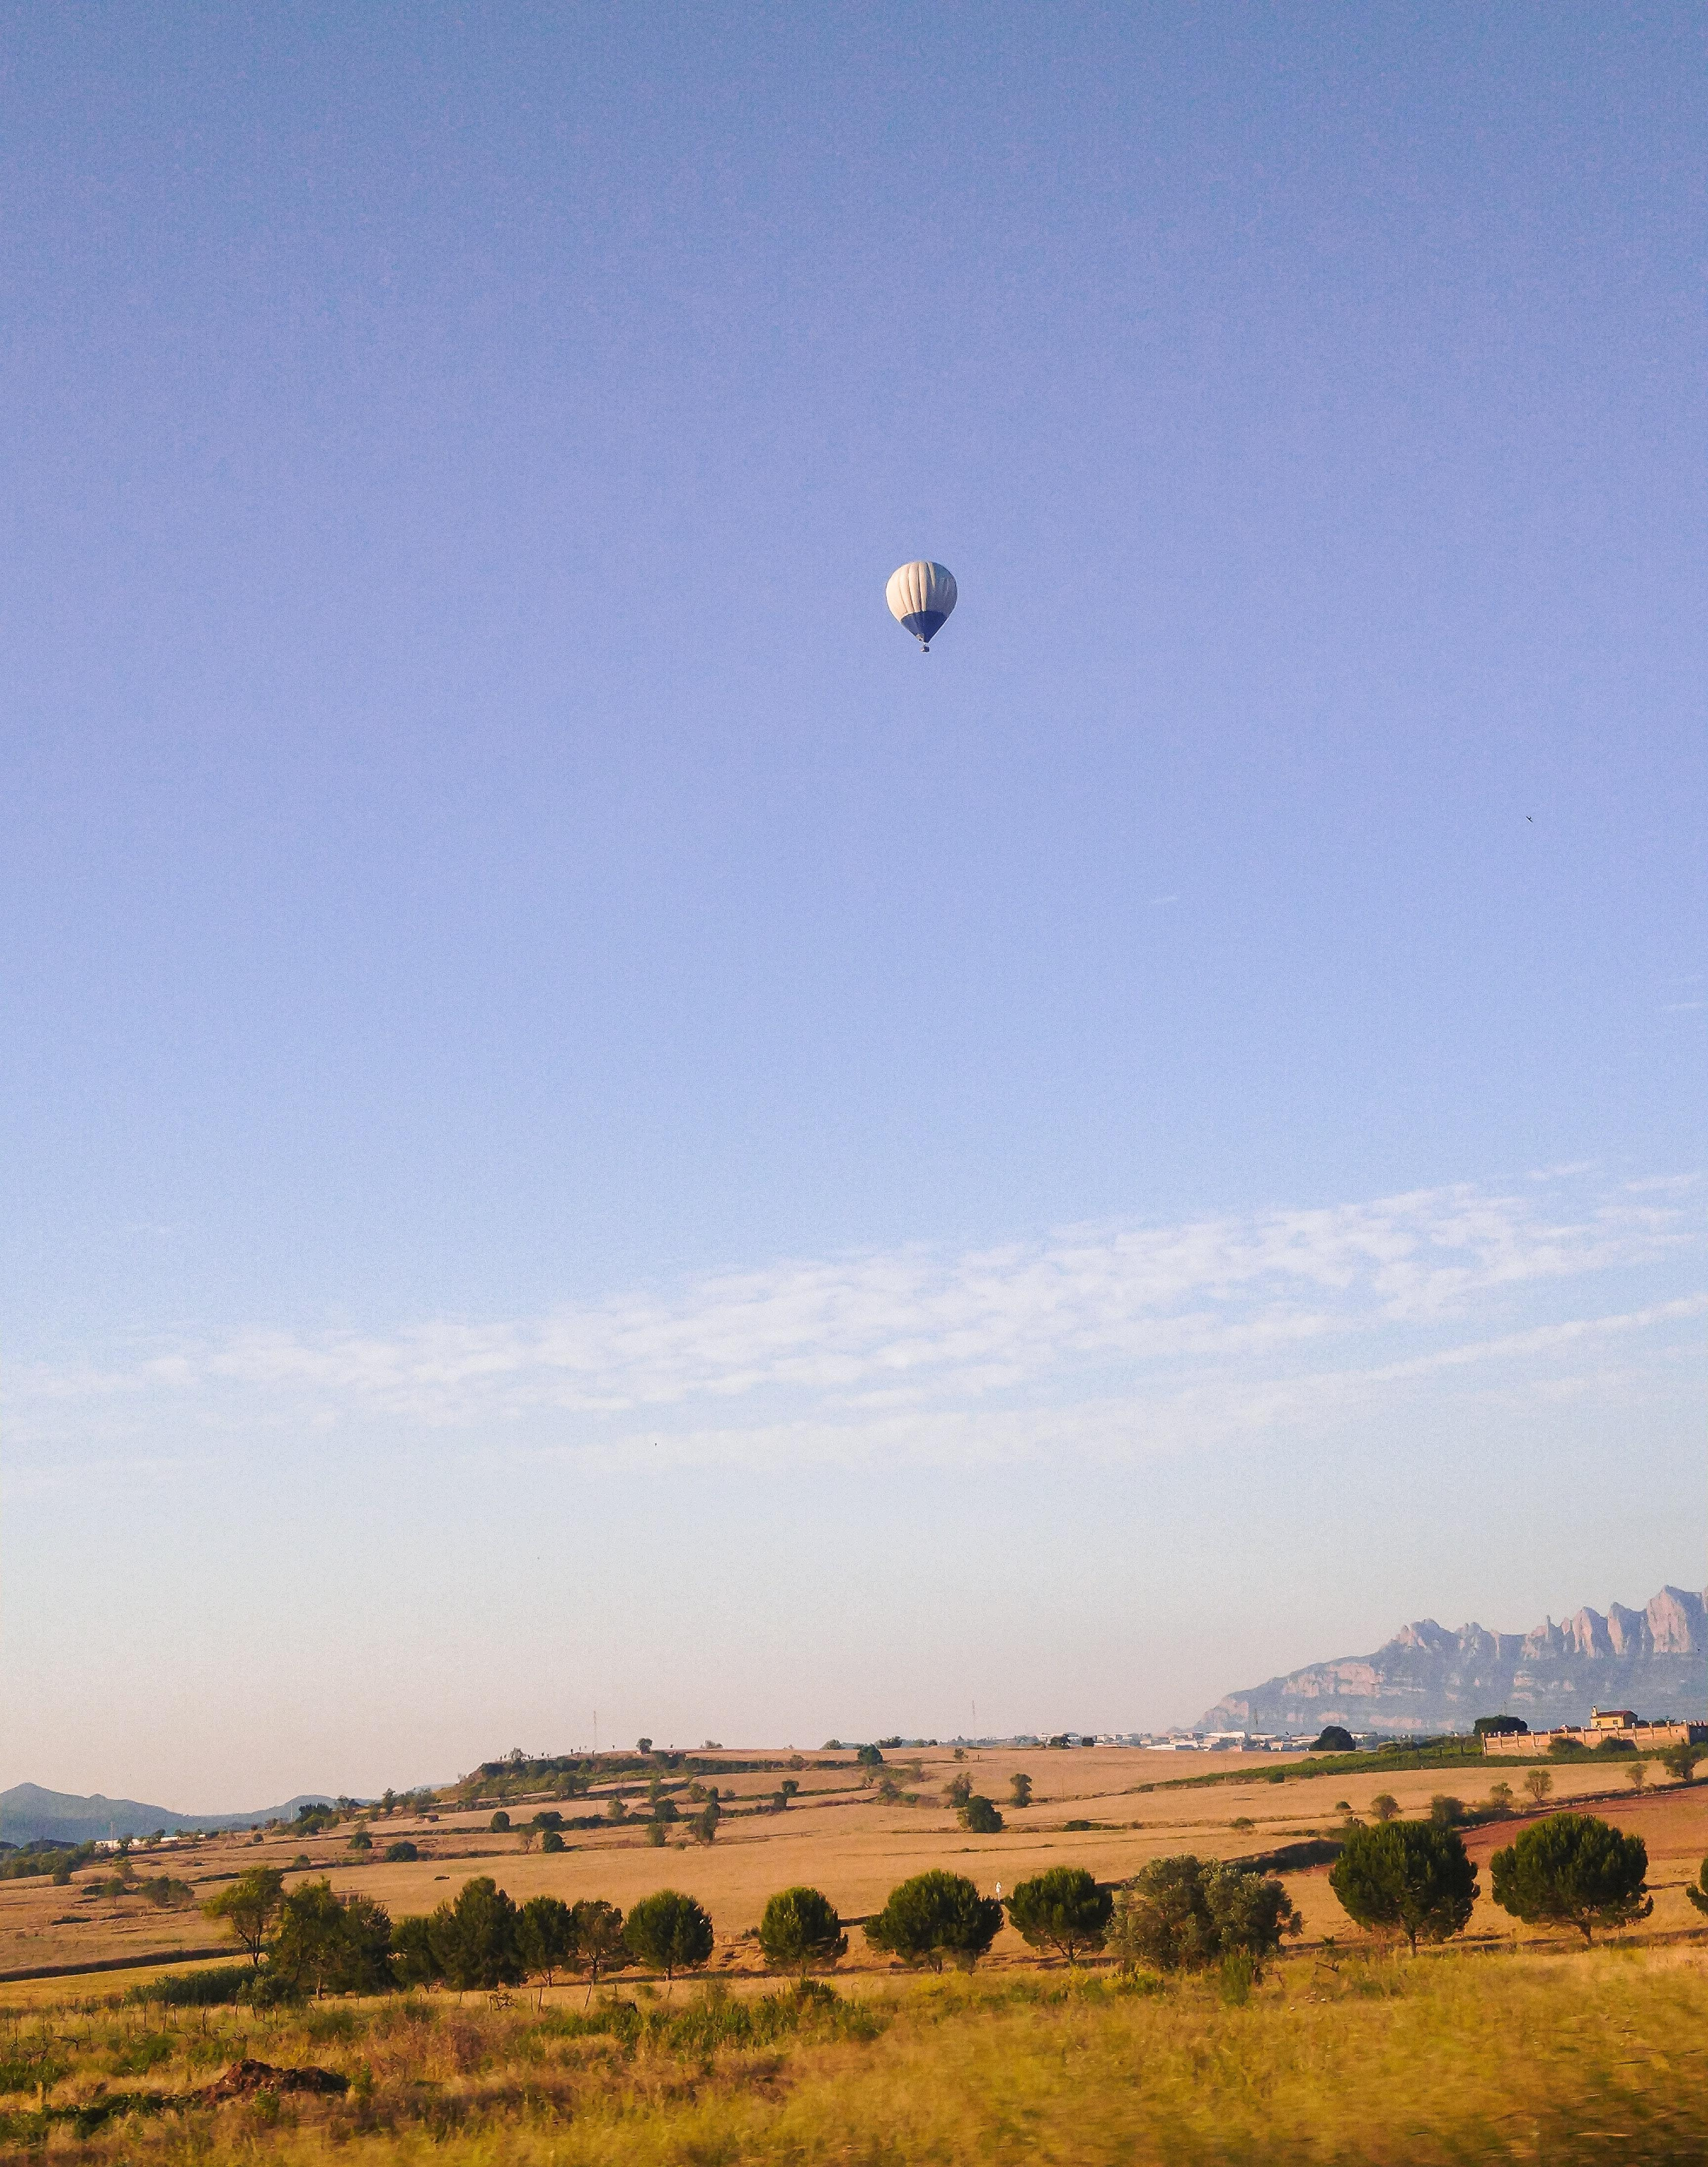hot air ballon: (885, 561, 957, 653)
